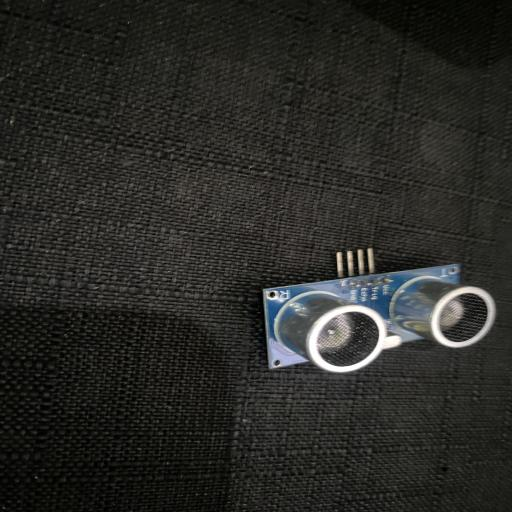Ultrasonic Sensor: (262, 248, 498, 374)
